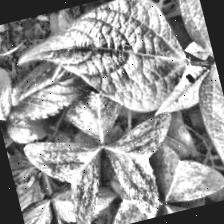Bean Rust: (191, 64, 224, 199)
